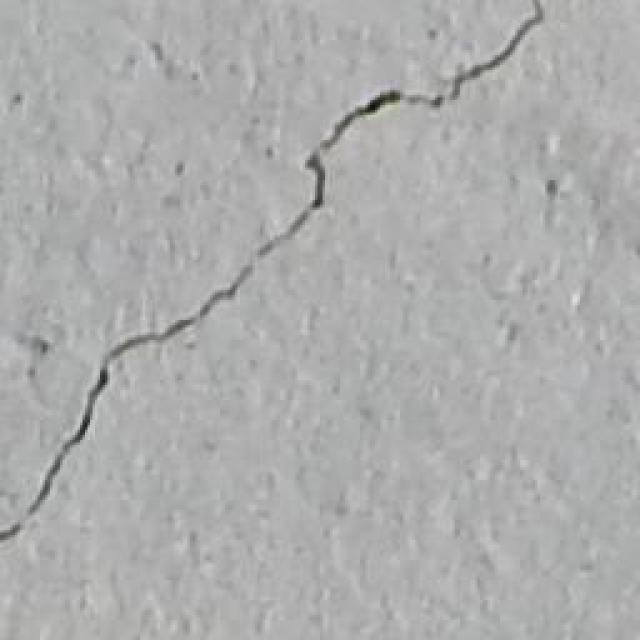concrete-crack: (0, 0, 548, 546)
